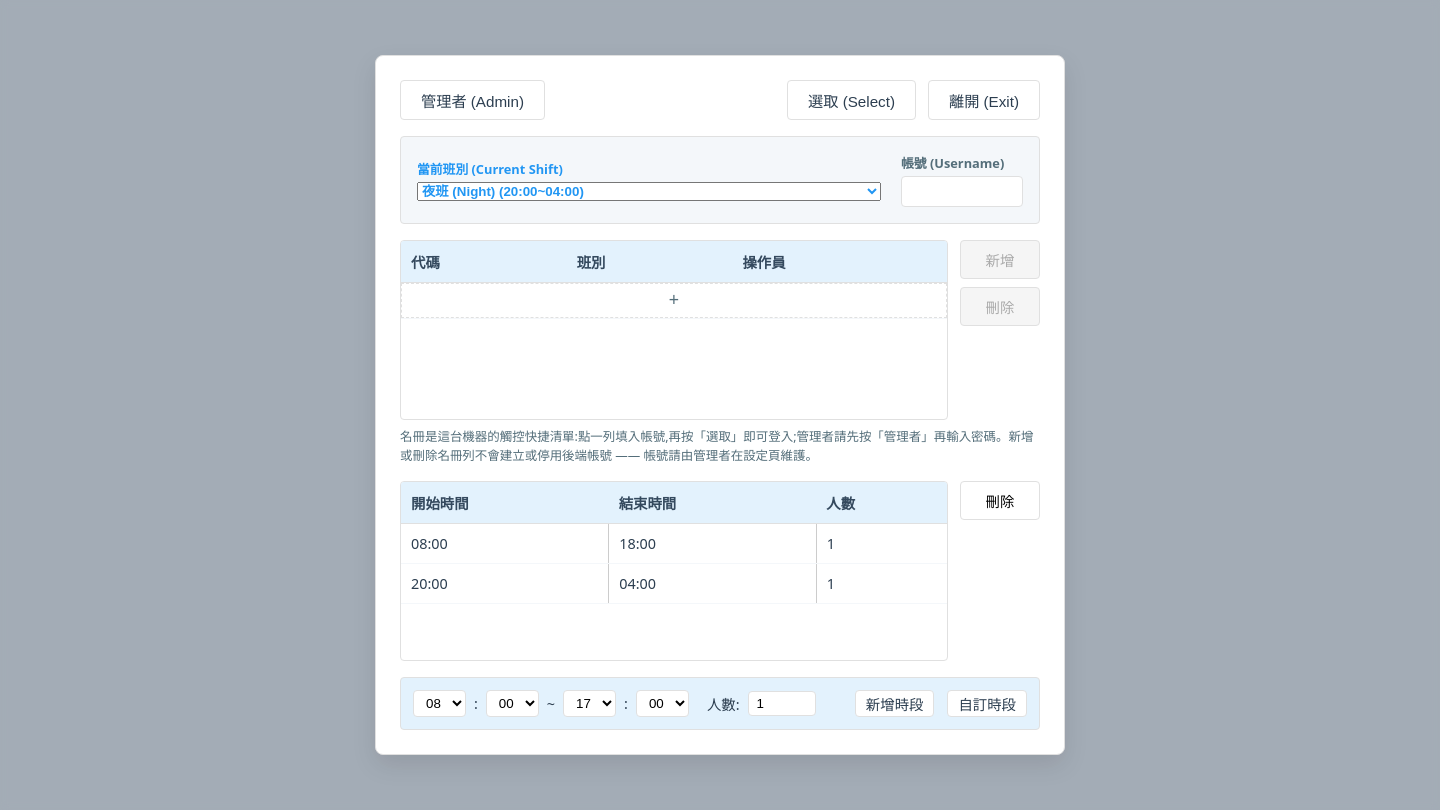
Test: 登入名冊的 username 來源(S6 缺口 G-1 的順帶修正) › 新增名冊列後,該列的 username 是代碼 OP1 而不是顯示名稱
This screenshot has width=1440, height=810.
Click the button named "新增一列": (674, 301) left=401, top=283, right=947, bottom=318
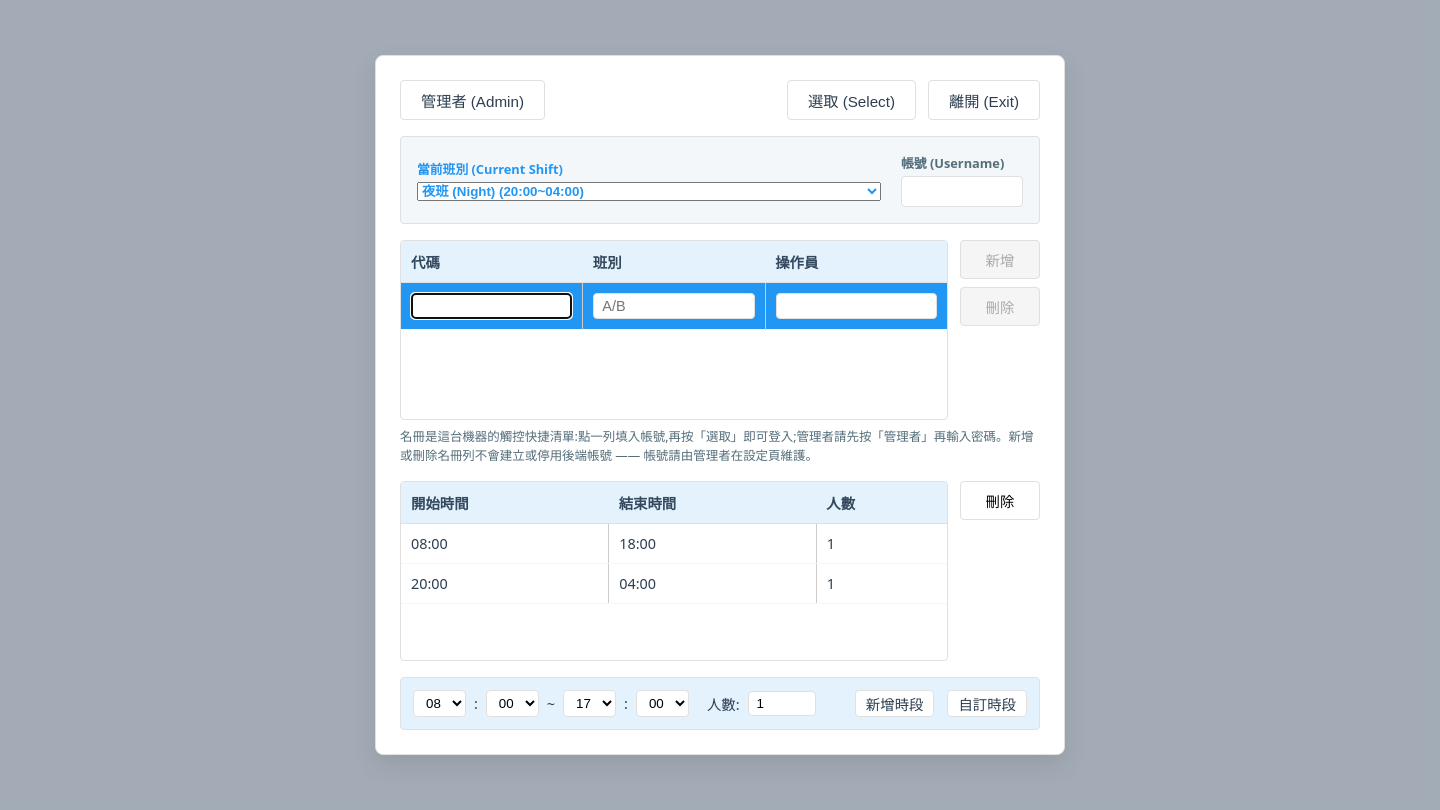
In the field named "代碼": (492, 306) left=411, top=293, right=572, bottom=319, type "OP1"
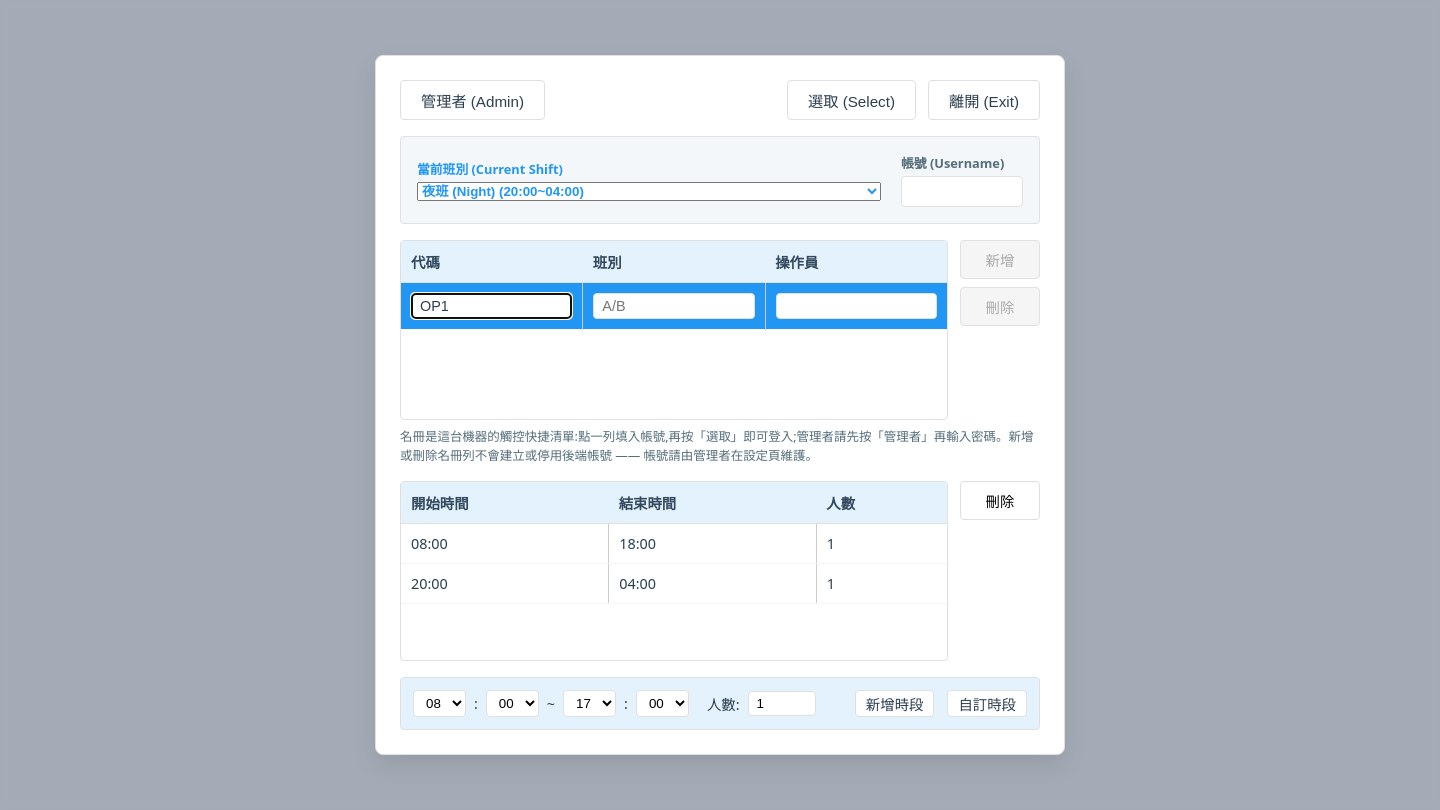
In the field named "操作員": (856, 306) left=776, top=293, right=937, bottom=319, type "王小明"
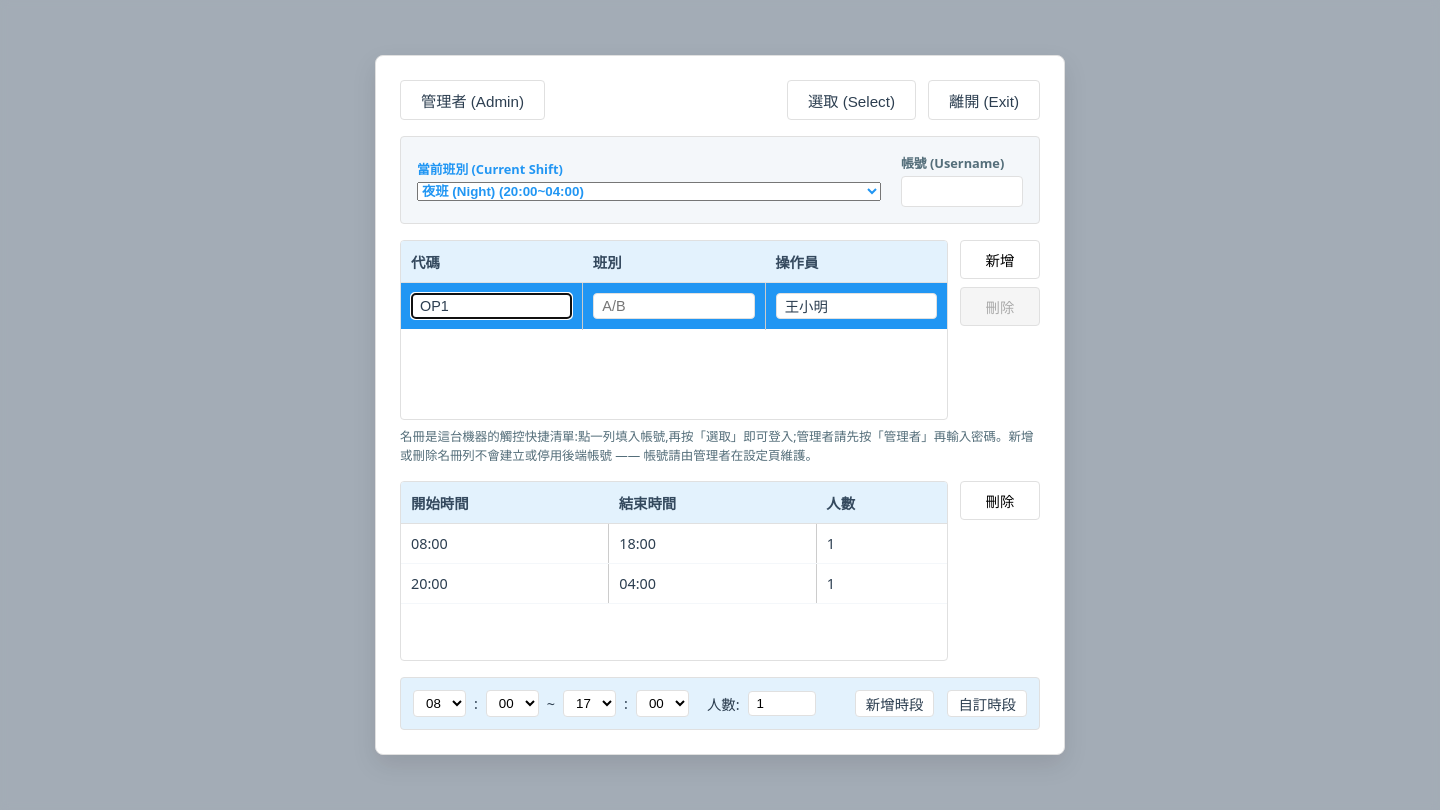
Click the button "新增": (1000, 259) left=960, top=240, right=1040, bottom=279
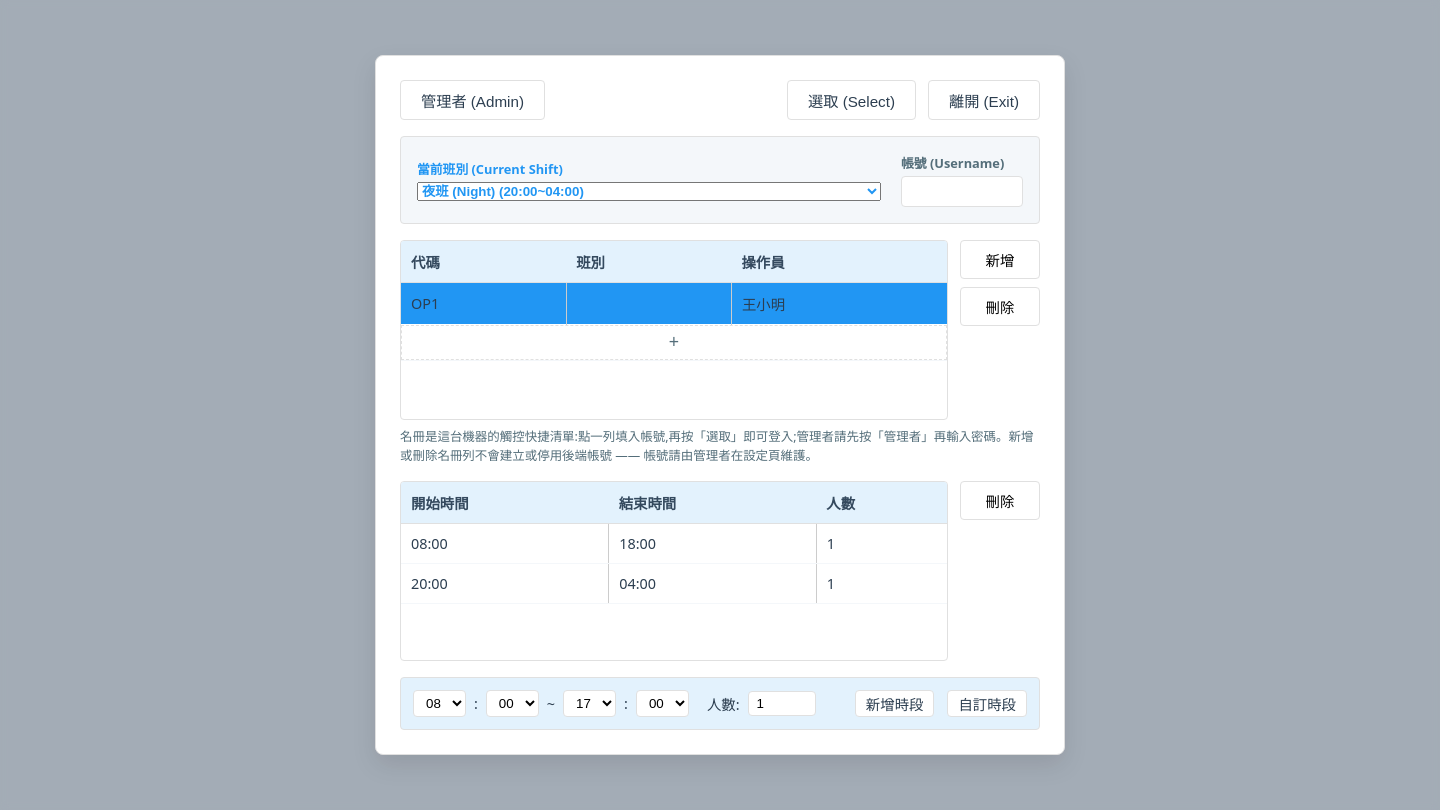
Check: the cell "OP1" is shown, box left=401, top=282, right=566, bottom=324
Check: the cell "王小明" is shown, box left=731, top=282, right=947, bottom=324
